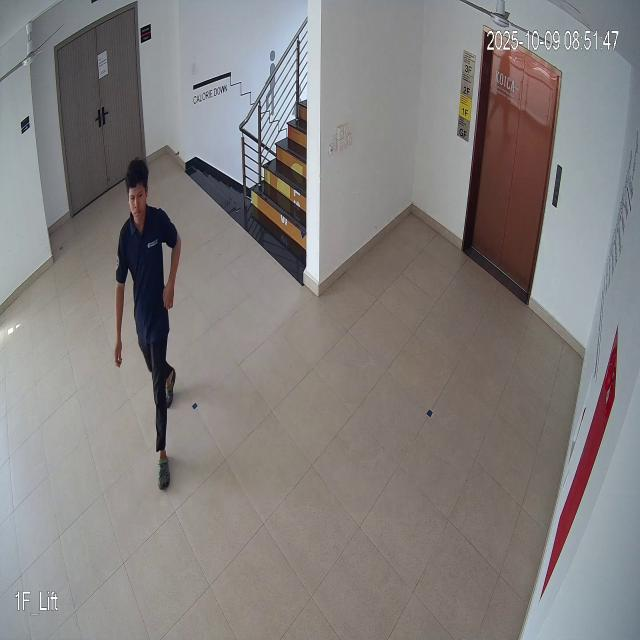face: (125, 158, 154, 237)
